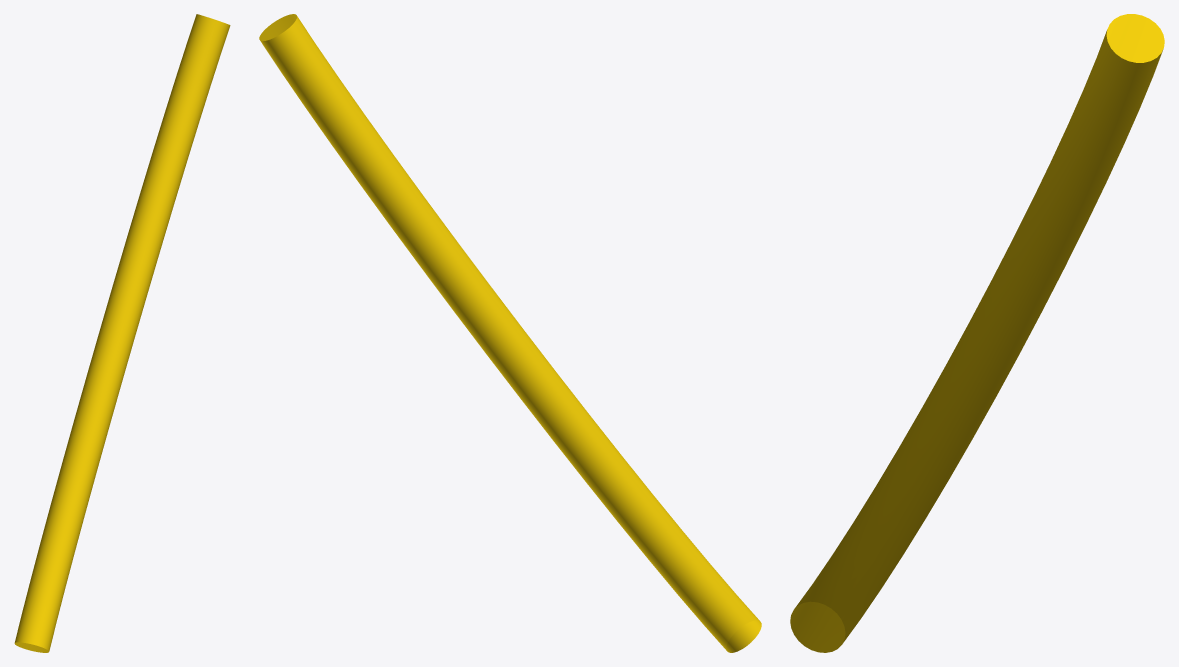
Rendered from Event_421115418_track_180.fbx.
3 views of the same model, side by side, from view 1: azimuth 30°, elevation 25°; view 2: azimuth 150°, elevation 25°; view 3: azimuth 270°, elevation 25° (orthographic). The views are drawn at different scales.
Visible parts, largest first — view 1: Model; view 2: Model; view 3: Model.
Boxes of the visible parts, x1,y1,x2,y2 form: Model: (14, 14, 230, 652); Model: (259, 14, 761, 652); Model: (790, 14, 1164, 652).
Bounding box in the file's own units: 0.3913 × 0.6249 × 0.2513.
